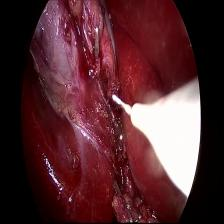Hook: (108, 75, 204, 203)
